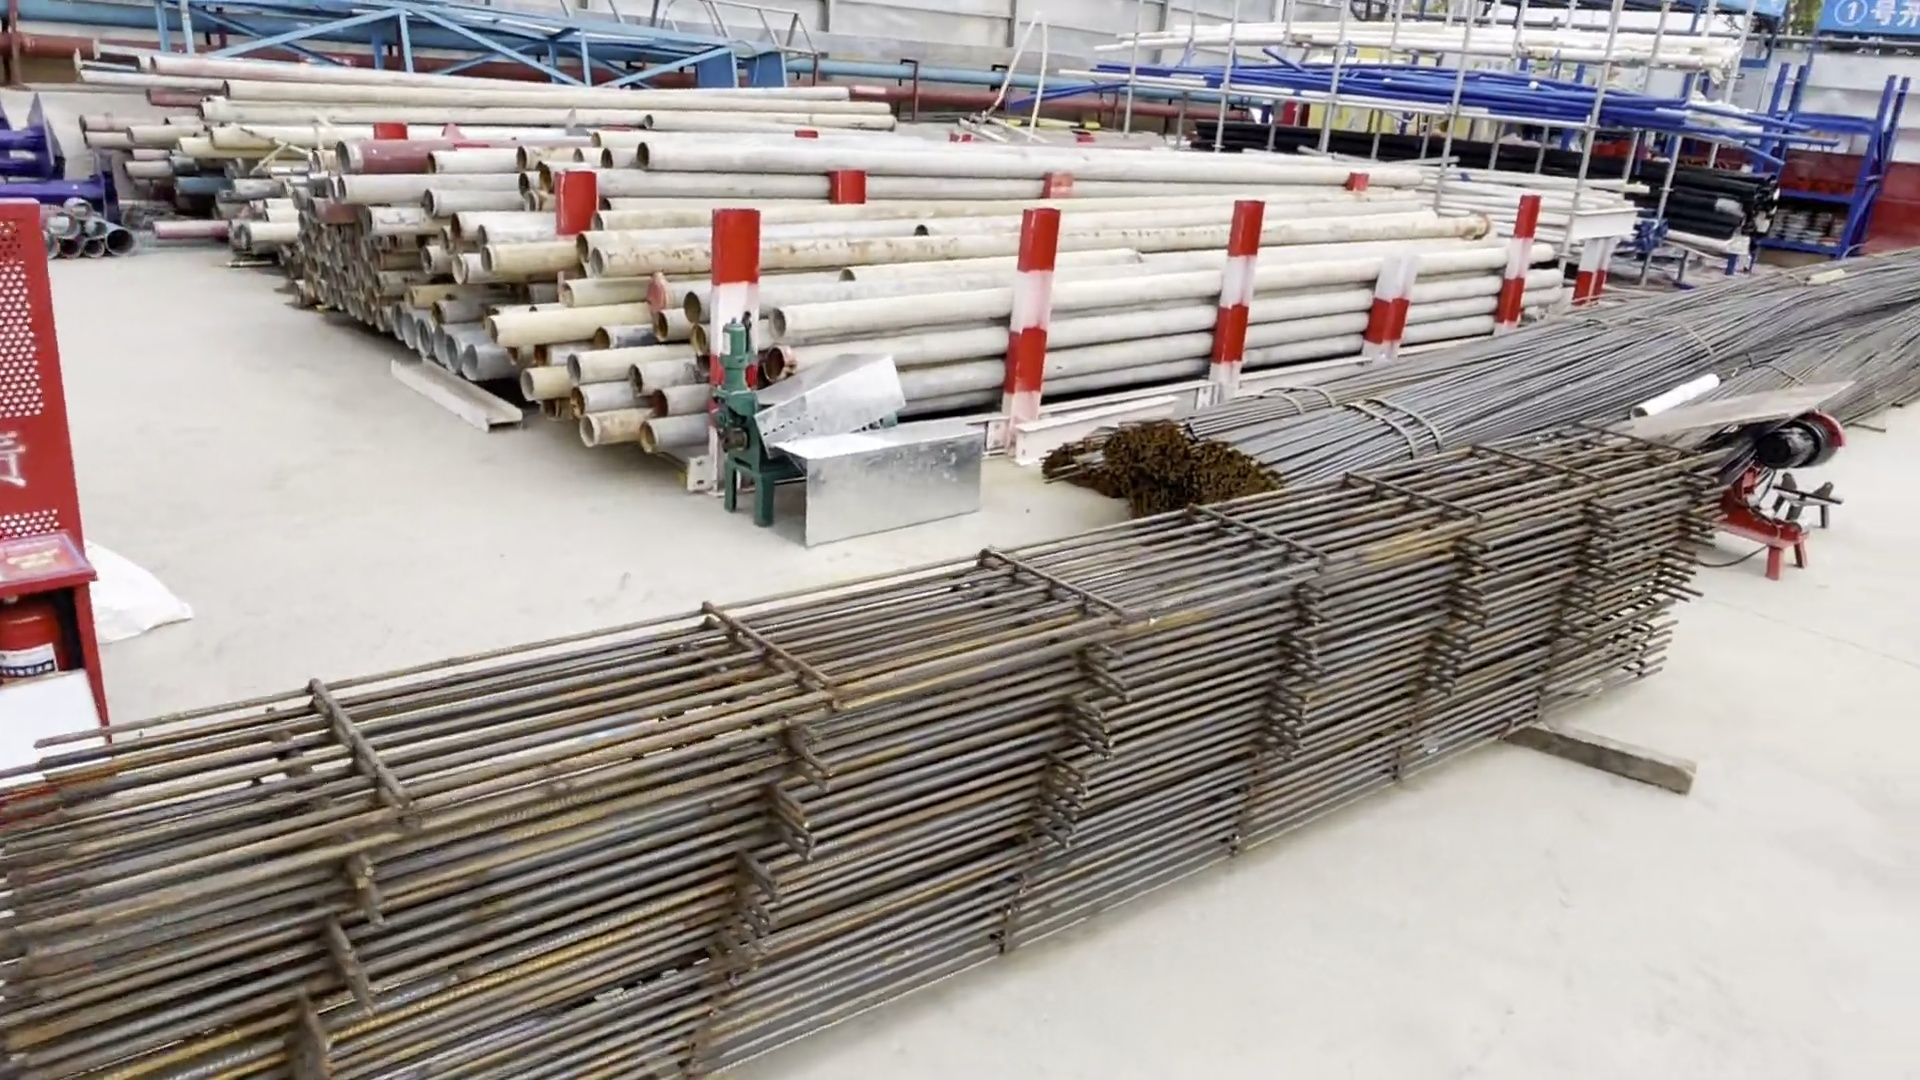rebar: (7, 462, 1704, 1069), (1062, 233, 1916, 512)
